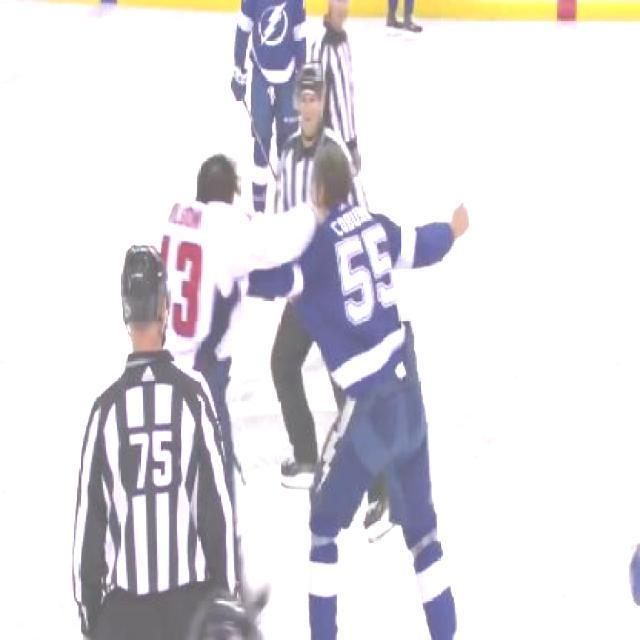fight: (158, 152, 471, 638)
non-fight: (73, 242, 230, 640)
